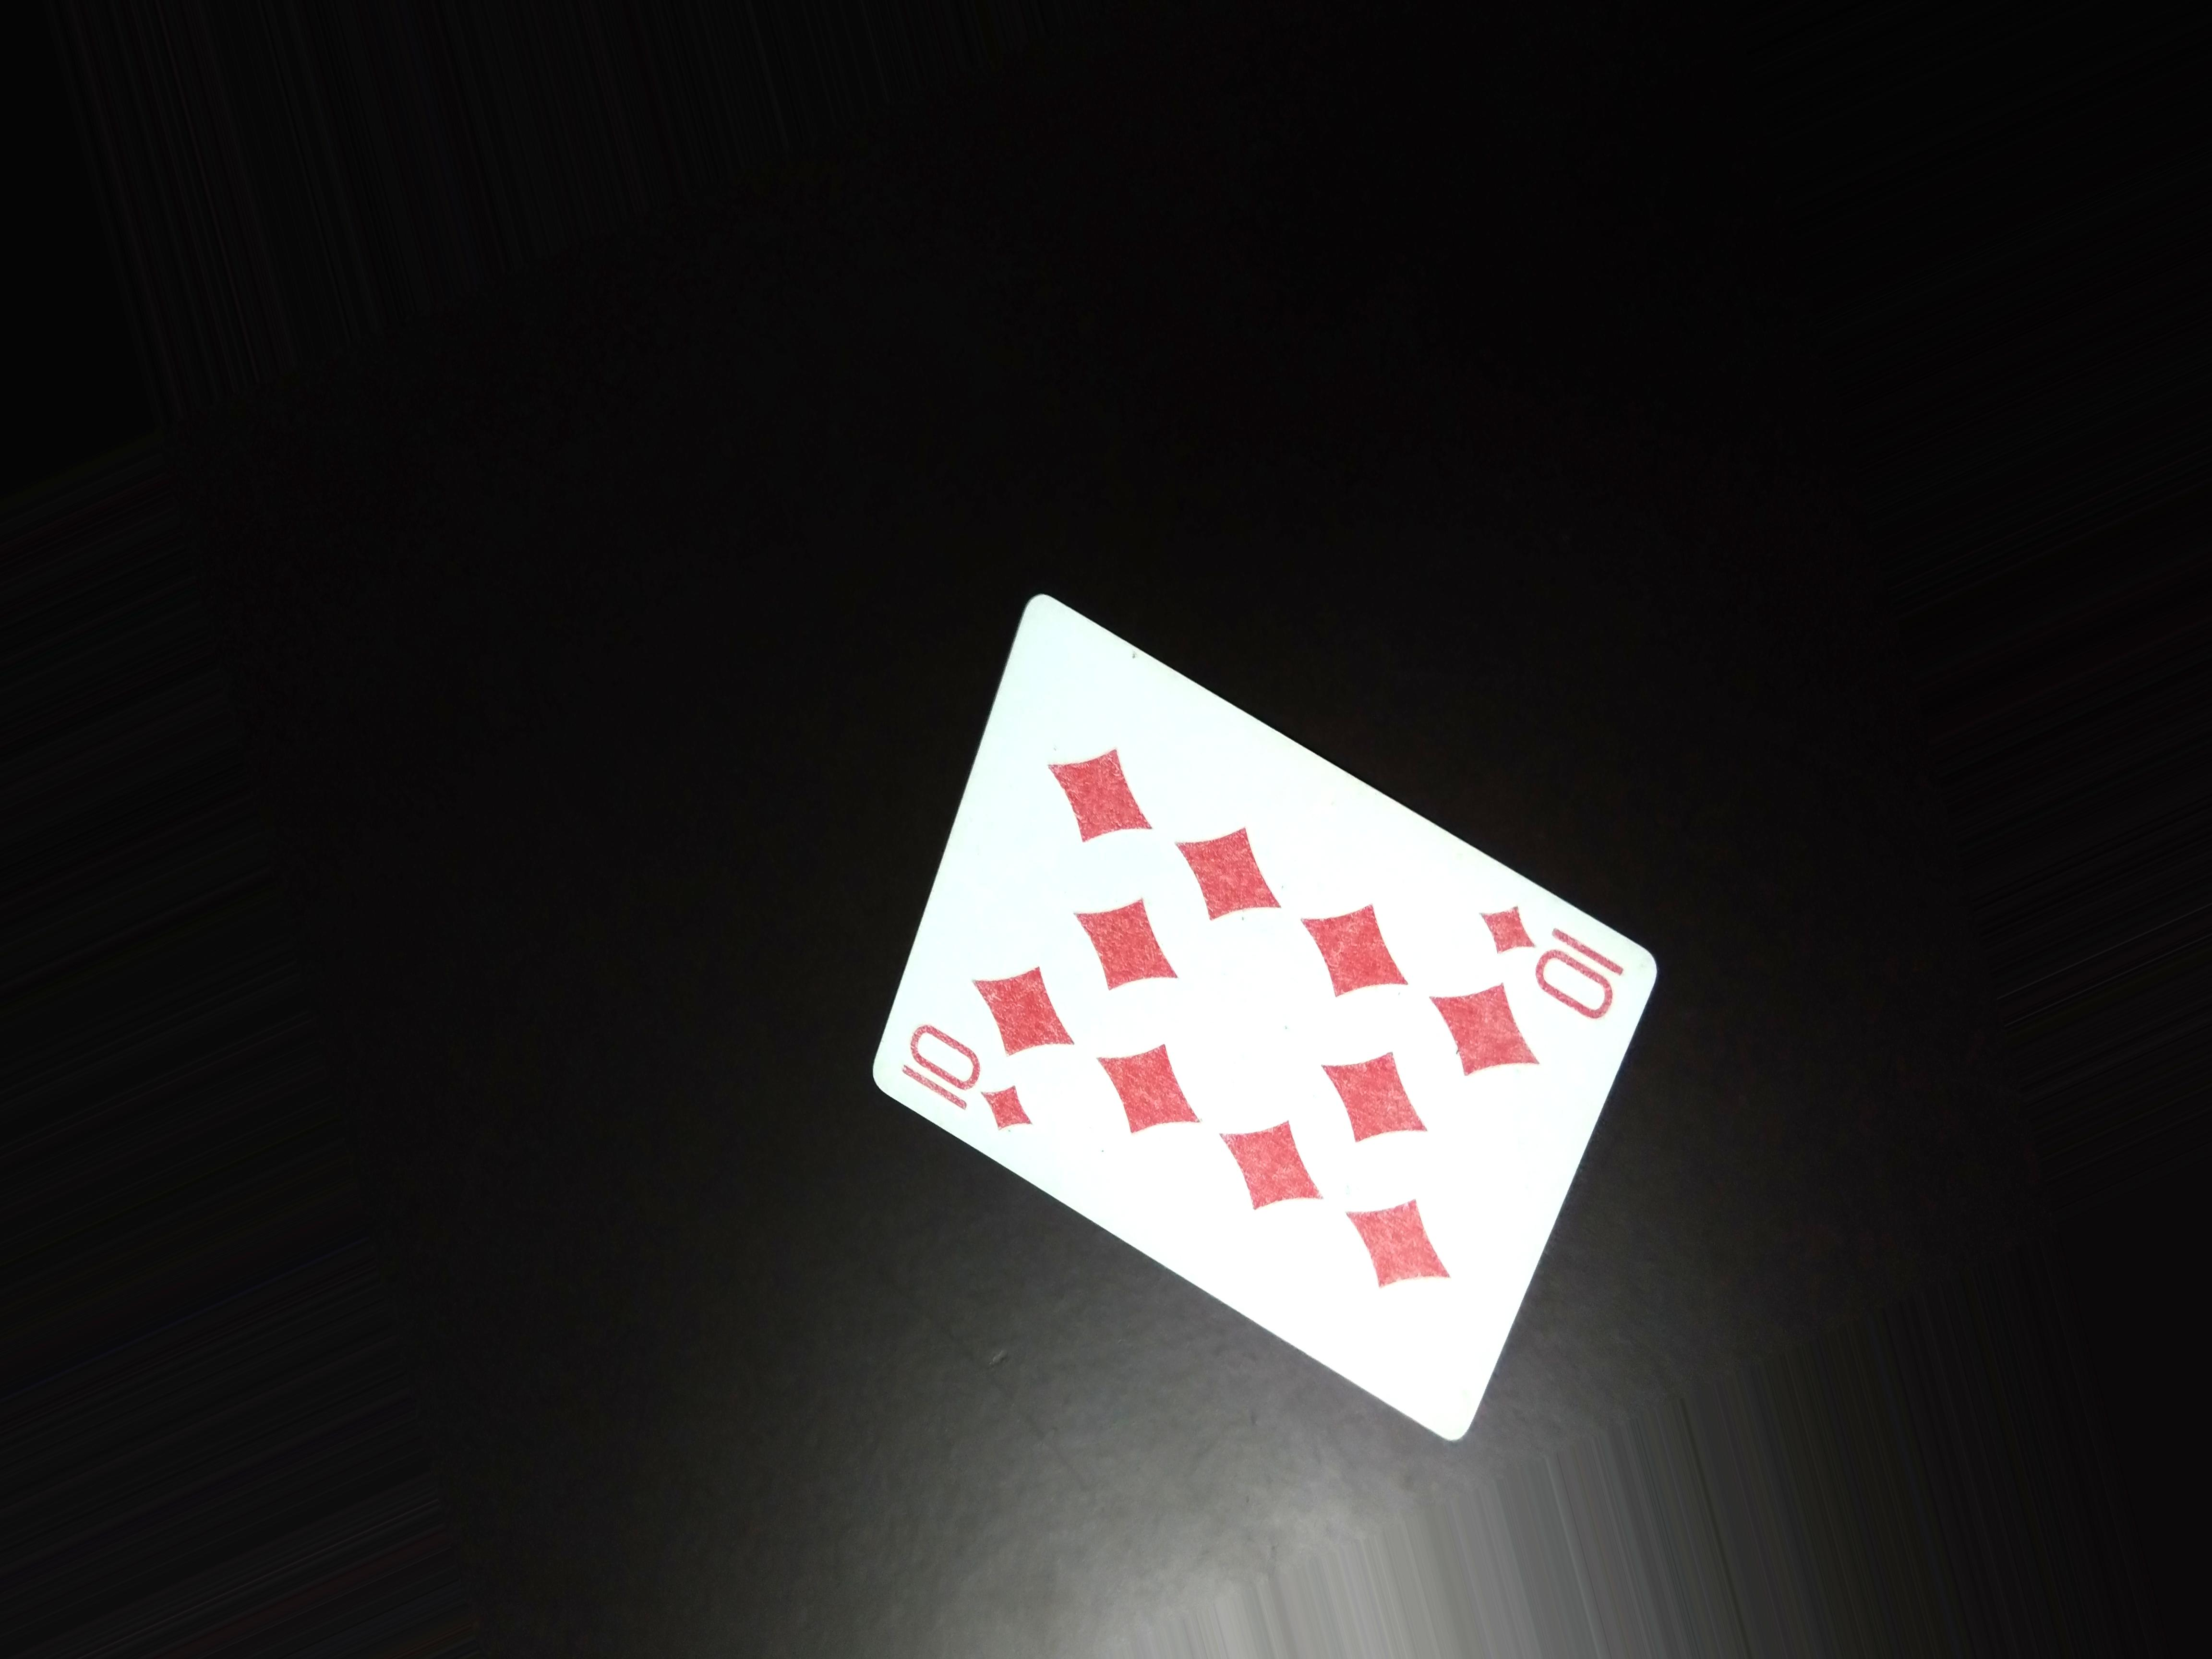10D: (897, 1021, 1045, 1141)
